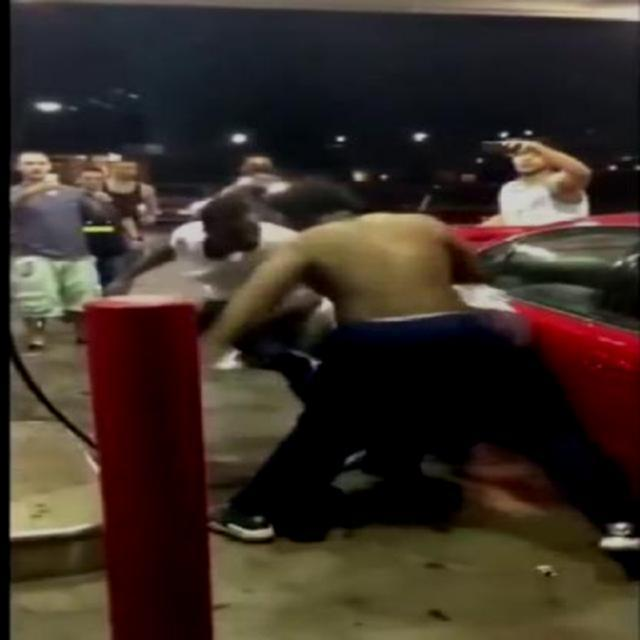fight: (136, 194, 638, 568)
